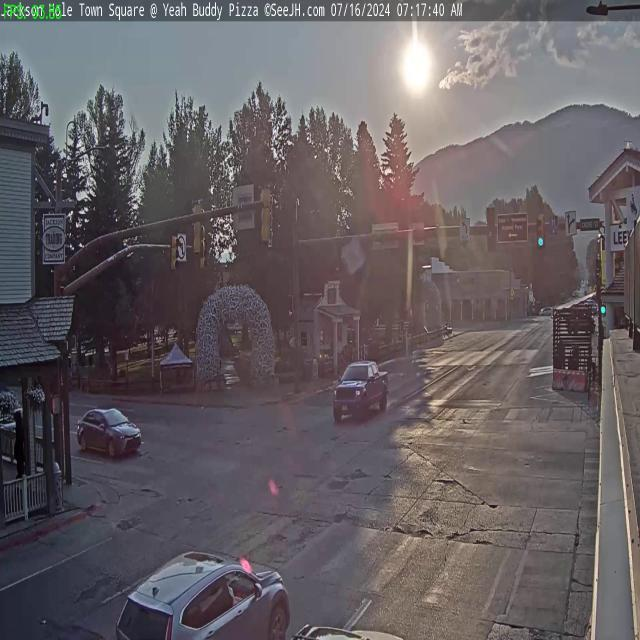person: (13, 410, 24, 490)
pickup: (332, 358, 389, 424)
sedan: (76, 406, 142, 462)
suv: (107, 540, 294, 640)
traffic light: (260, 184, 274, 244), (190, 200, 204, 256), (169, 234, 181, 274), (486, 207, 496, 250), (536, 215, 544, 248)
